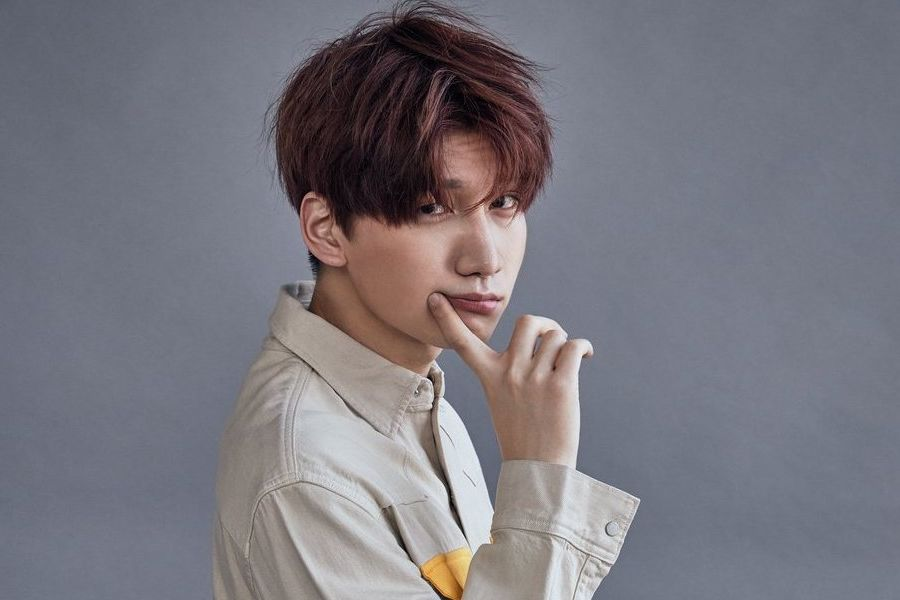BOY: (275, 17, 549, 350)
